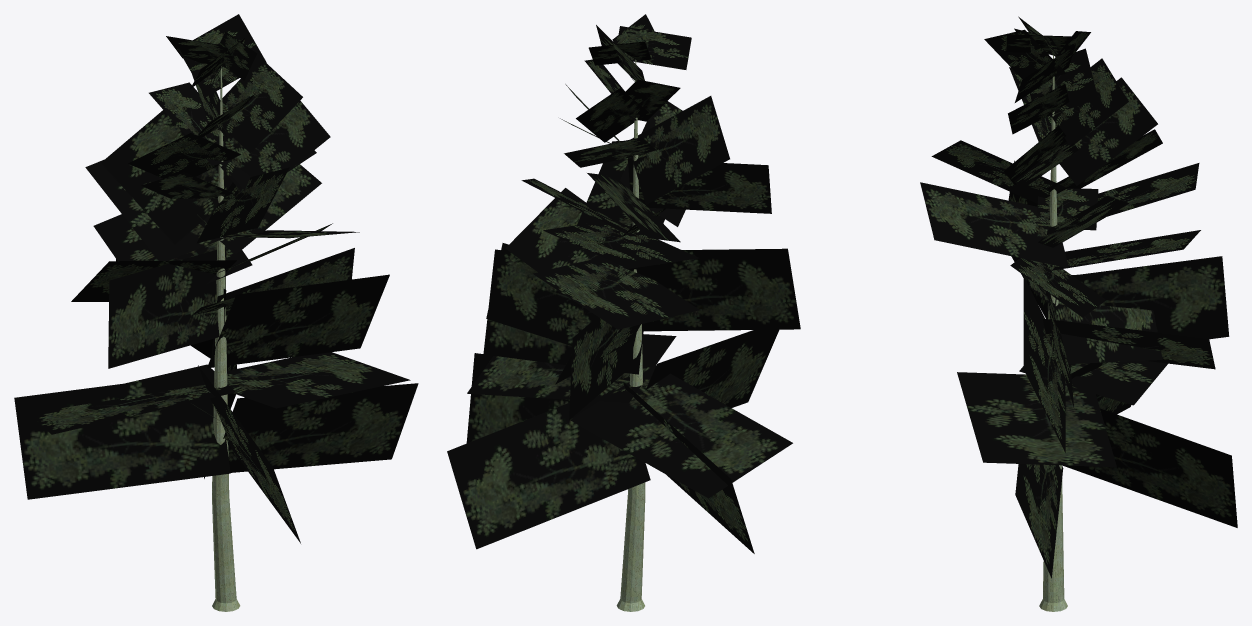
The model's file is ash1_hi.obj.
3 renders of one model, left to right at view 1: azimuth 30°, elevation 25°; view 2: azimuth 150°, elevation 25°; view 3: azimuth 270°, elevation 25°, orthographic.
Visible parts, largest first — view 1: Ash1_hi; view 2: Ash1_hi; view 3: Ash1_hi.
Part boxes in pixels (x1,y1,x2,y2): Ash1_hi: (14, 14, 418, 611); Ash1_hi: (447, 14, 800, 611); Ash1_hi: (920, 16, 1237, 611).
Size of the model in its own units: 10.74 by 17.21 by 10.25.
2 materials, 2 textured.
